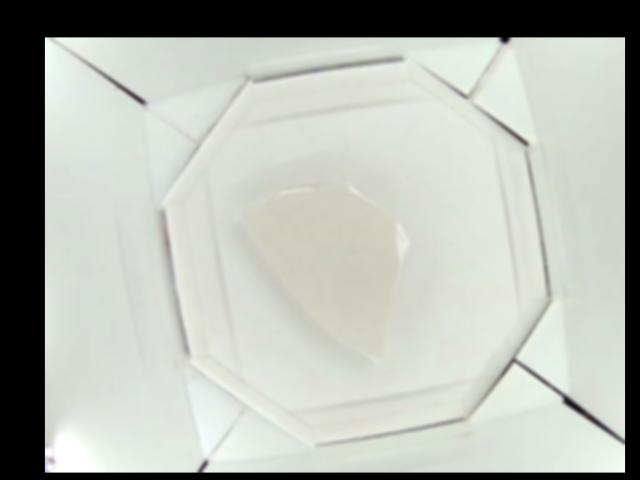China: (250, 177, 411, 367)
